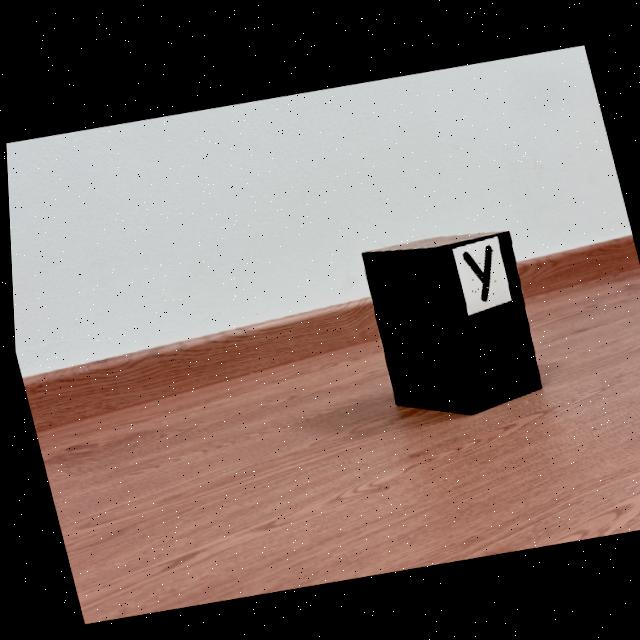Y: (461, 240, 490, 296)
